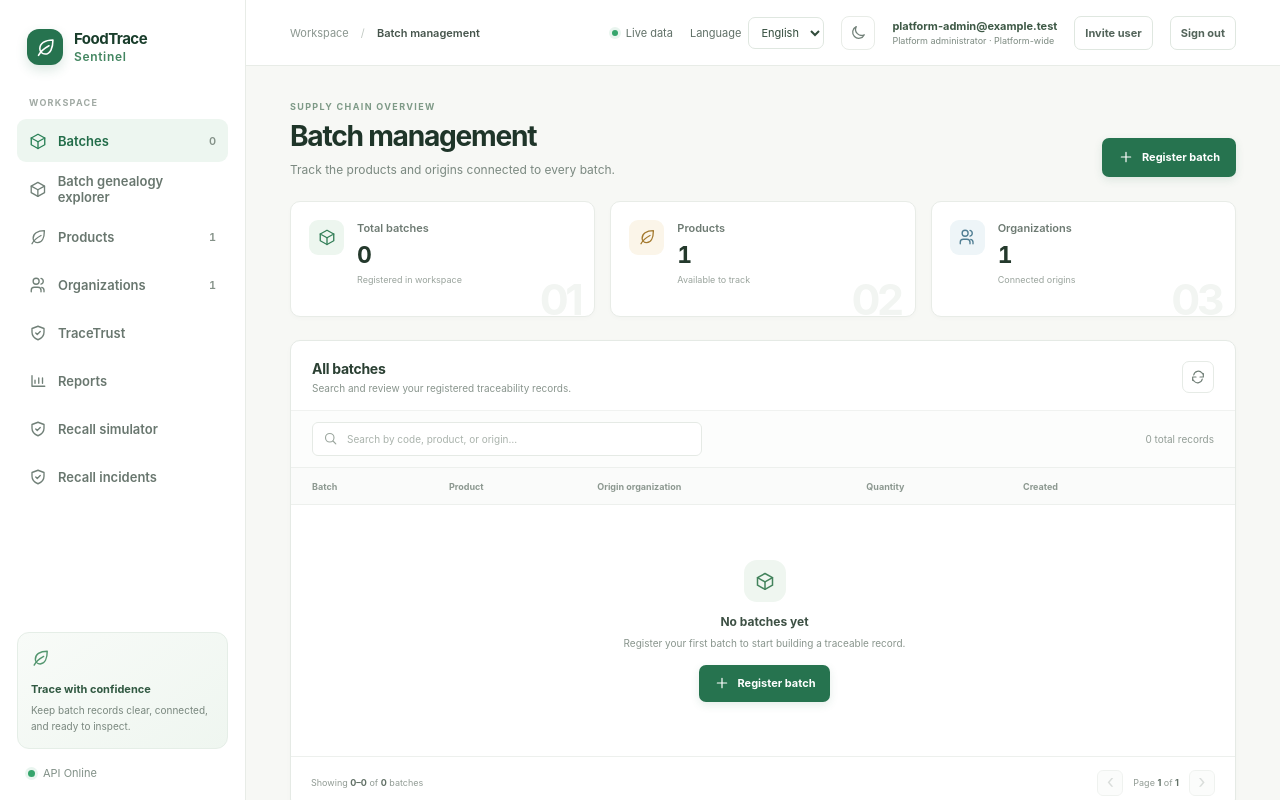
Test: FoodTrace Sentinel batch dashboard › opens the Recall incidents workspace and loads its batch choices and incident list
The image size is (1280, 800).
Check: the heading "Batch management" is shown, box [290,119,536,153]
Click the button "Recall incidents" at (122, 476), box [17,455,228,498]
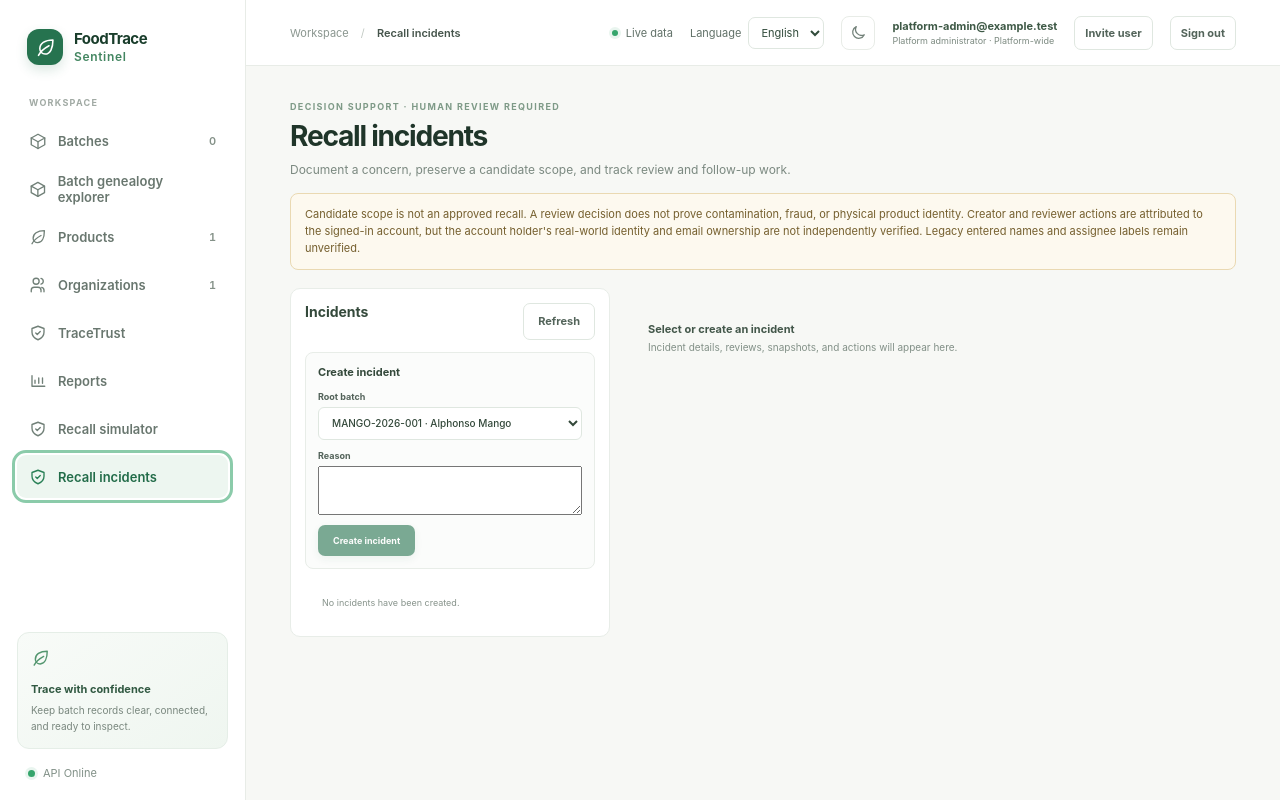
Check: the heading "Recall incidents" is shown, box [290,119,487,153]
Check: the text "No incidents have been created." is shown, box [322,597,460,608]
